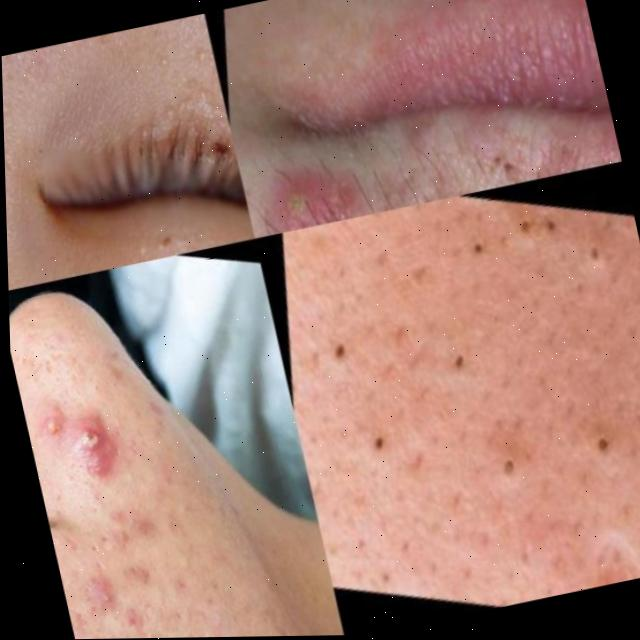Acne: (294, 193, 640, 530), (226, 0, 607, 229), (24, 378, 239, 640), (114, 71, 221, 150)
